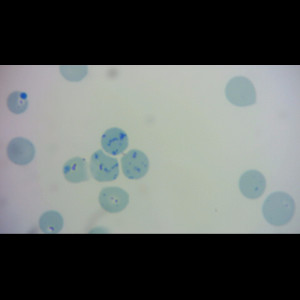aggregate reticulocyte: (90, 149, 120, 182), (120, 148, 150, 180), (100, 126, 129, 156)
erythrocyte: (261, 190, 297, 228), (224, 75, 258, 108), (97, 185, 131, 214), (61, 155, 91, 184), (37, 209, 65, 234), (5, 90, 30, 115)
punctate reticulocyte: (5, 136, 36, 167), (238, 169, 268, 200)
